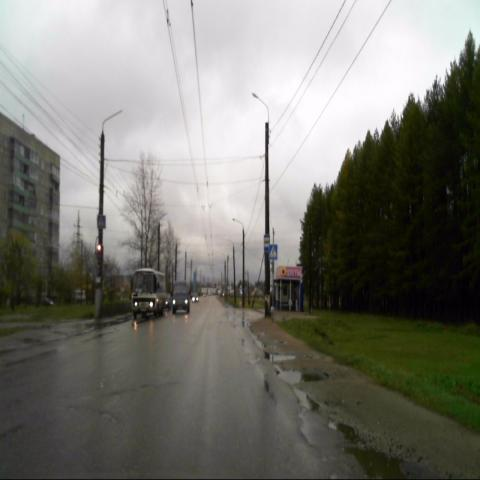5_16: (263, 234, 270, 253)
5_19_1: (269, 244, 277, 260), (98, 215, 105, 229)
